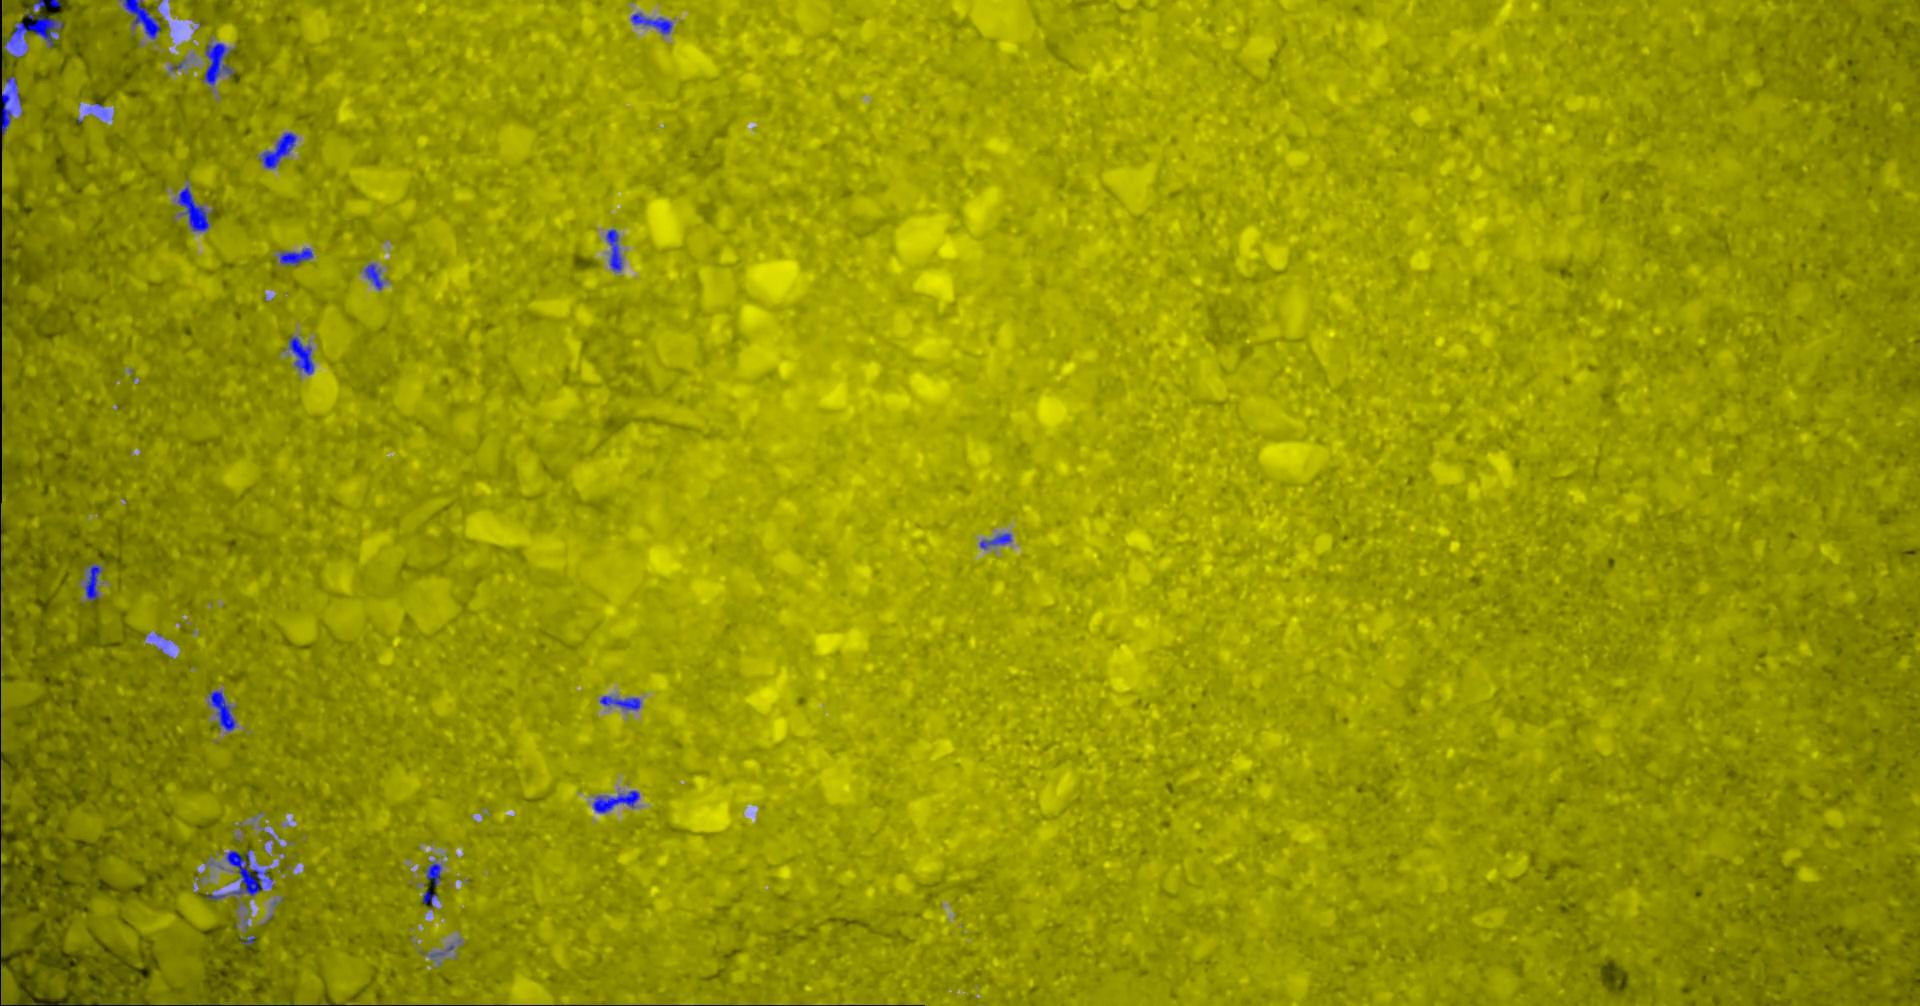ant: (4, 10, 63, 57), (225, 848, 272, 895), (122, 0, 160, 38), (177, 185, 208, 231), (259, 132, 296, 168), (204, 42, 234, 85), (0, 75, 20, 135), (210, 690, 235, 730), (592, 790, 639, 812), (630, 11, 670, 34), (288, 337, 312, 373), (604, 227, 621, 271), (84, 564, 102, 600), (599, 695, 640, 710), (279, 246, 312, 264), (363, 263, 383, 290), (979, 532, 1011, 547), (425, 862, 441, 885), (32, 0, 60, 9), (422, 889, 437, 904)
